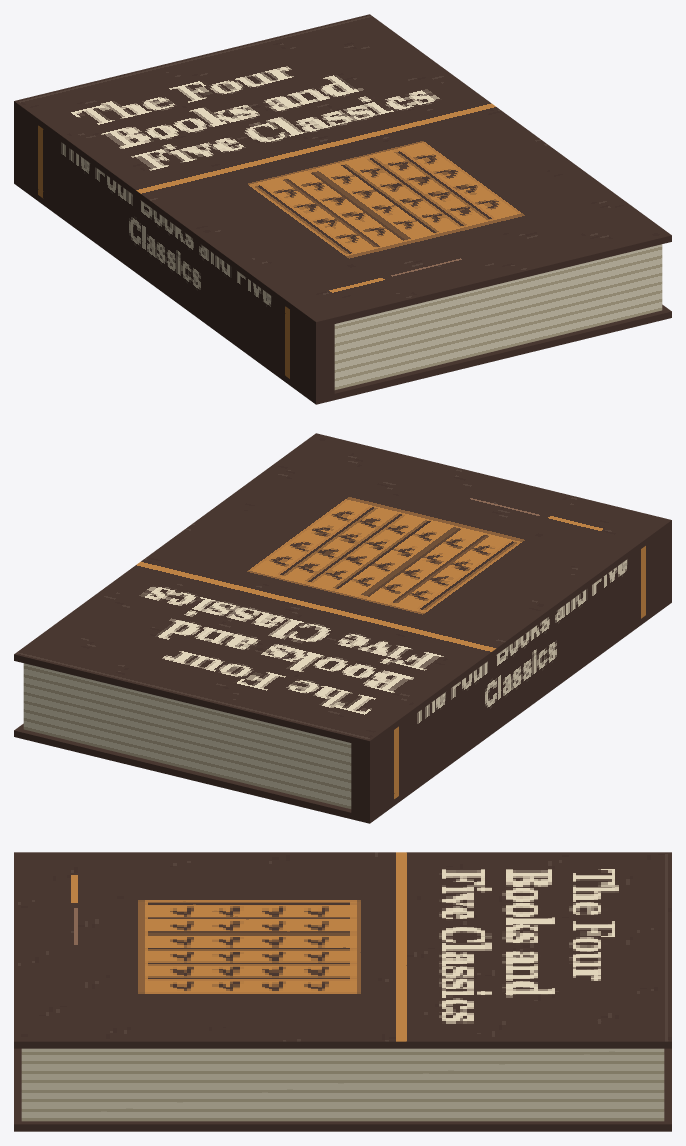
File: holybook_confucian.glb
3 views of the same model, one above another, from view 1: azimuth 30°, elevation 25°; view 2: azimuth 150°, elevation 25°; view 3: azimuth 270°, elevation 25° (orthographic). The views are drawn at different scales.
Visible parts, largest first — view 1: block_front cover, block_spine, block_page block, block_back cover; view 2: block_front cover, block_spine, block_page block, block_back cover; view 3: block_front cover, block_page block, block_back cover.
Part boxes in pixels (<box>): block_front cover: <box>14,14,671,328</box>; block_spine: <box>14,108,334,398</box>; block_page block: <box>334,244,662,389</box>; block_back cover: <box>14,177,671,404</box>; block_front cover: <box>14,433,671,747</box>; block_spine: <box>351,527,671,817</box>; block_page block: <box>23,663,351,808</box>; block_back cover: <box>14,596,671,823</box>; block_front cover: <box>14,852,671,1048</box>; block_page block: <box>21,1048,664,1121</box>; block_back cover: <box>14,1048,671,1131</box>.
Size of the model in its own units: 0.1734 by 0.0384 by 0.255.
1 material, 1 textured.
